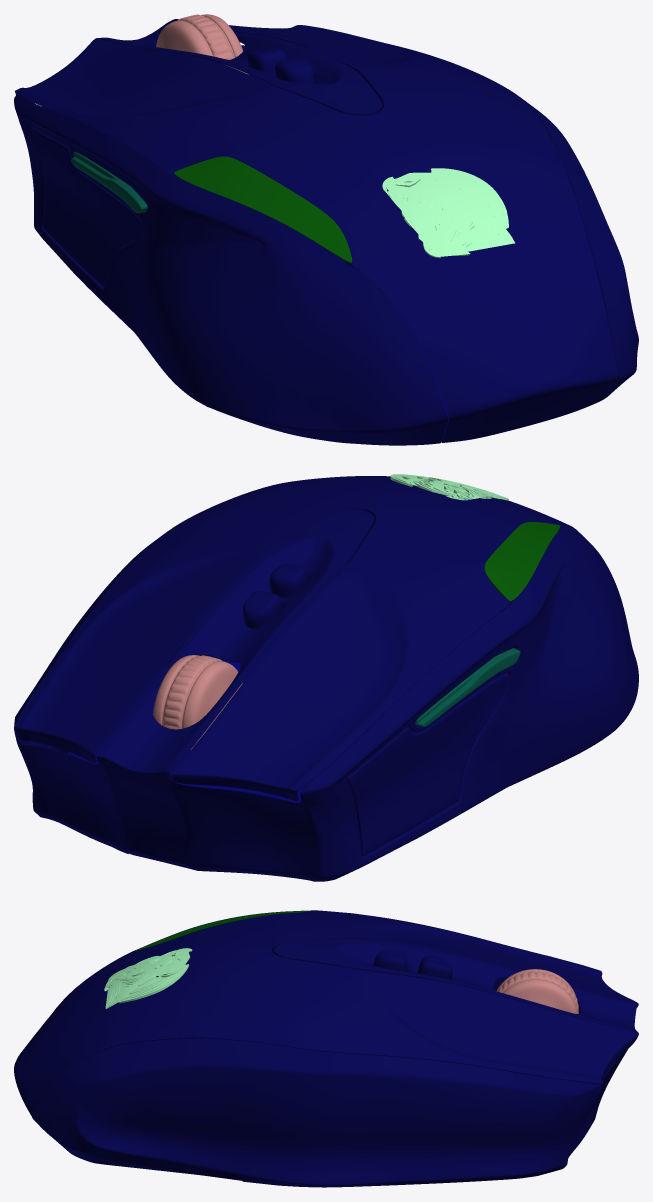
File: MouseThermaltakeBlack.obj
3 renders of one model, top to bottom at view 1: azimuth 30°, elevation 25°; view 2: azimuth 150°, elevation 25°; view 3: azimuth 270°, elevation 25°, orthographic. The views are drawn at different scales.
Parts seen in each view (by area): view 1: Plane006, Line001, Object003, Cylinder002, Object004, Object005; view 2: Plane006, Object003, Cylinder002, Line001, Object004, Object005; view 3: Plane006, Line001, Cylinder002, Object005, Object003.
Part boxes in pixels (left/top/right/bottom): Plane006: left=14, top=19, right=638, bottom=445; Line001: left=170, top=168, right=515, bottom=441; Object003: left=174, top=156, right=352, bottom=262; Cylinder002: left=156, top=14, right=248, bottom=74; Object004: left=71, top=151, right=147, bottom=213; Object005: left=177, top=14, right=237, bottom=69; Plane006: left=14, top=476, right=638, bottom=881; Object003: left=484, top=522, right=560, bottom=603; Cylinder002: left=153, top=655, right=242, bottom=748; Line001: left=72, top=474, right=508, bottom=802; Object004: left=415, top=648, right=520, bottom=727; Object005: left=162, top=655, right=221, bottom=750; Plane006: left=14, top=910, right=638, bottom=1187; Line001: left=104, top=948, right=537, bottom=1187; Cylinder002: left=496, top=969, right=577, bottom=1013; Object005: left=497, top=971, right=578, bottom=1013; Object003: left=134, top=910, right=309, bottom=951.
Bounding box in the file's own units: 2 × 0.9764 × 3.35.
